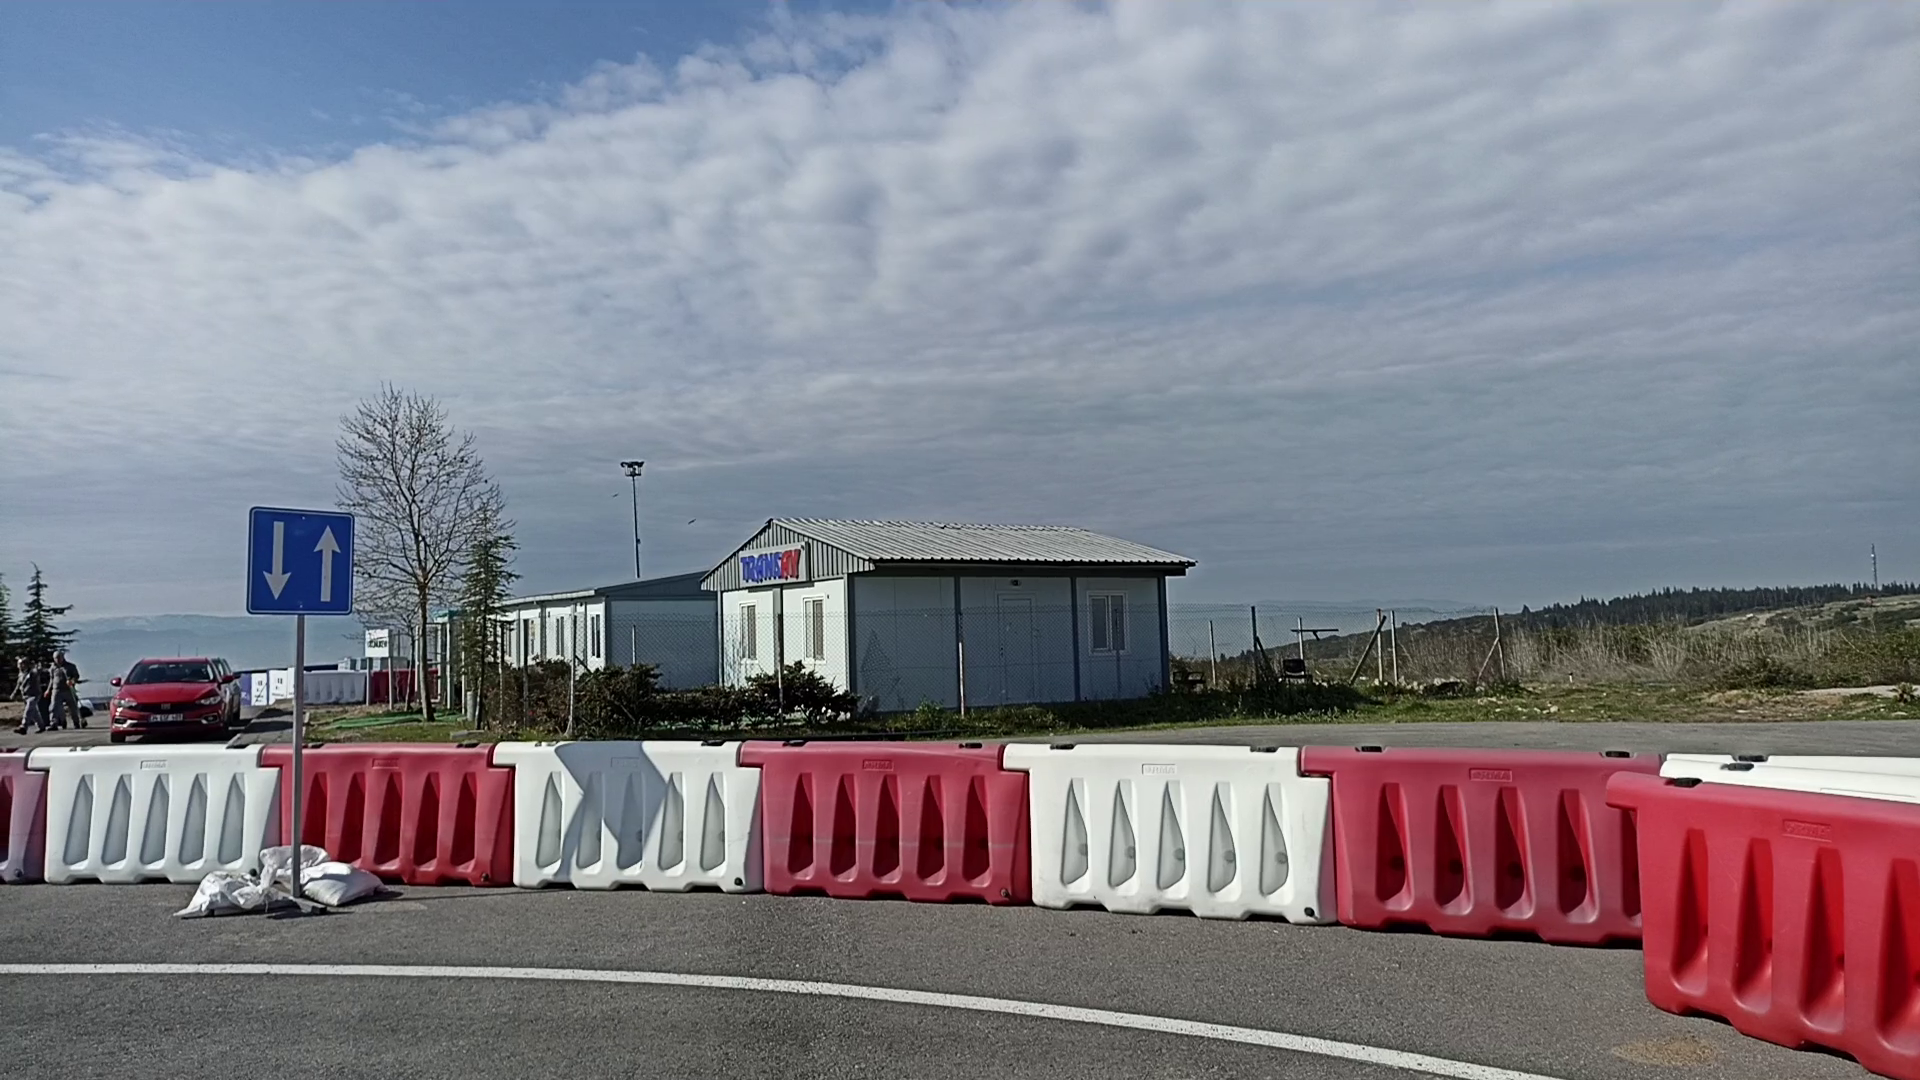oneway: (244, 505, 356, 618)
